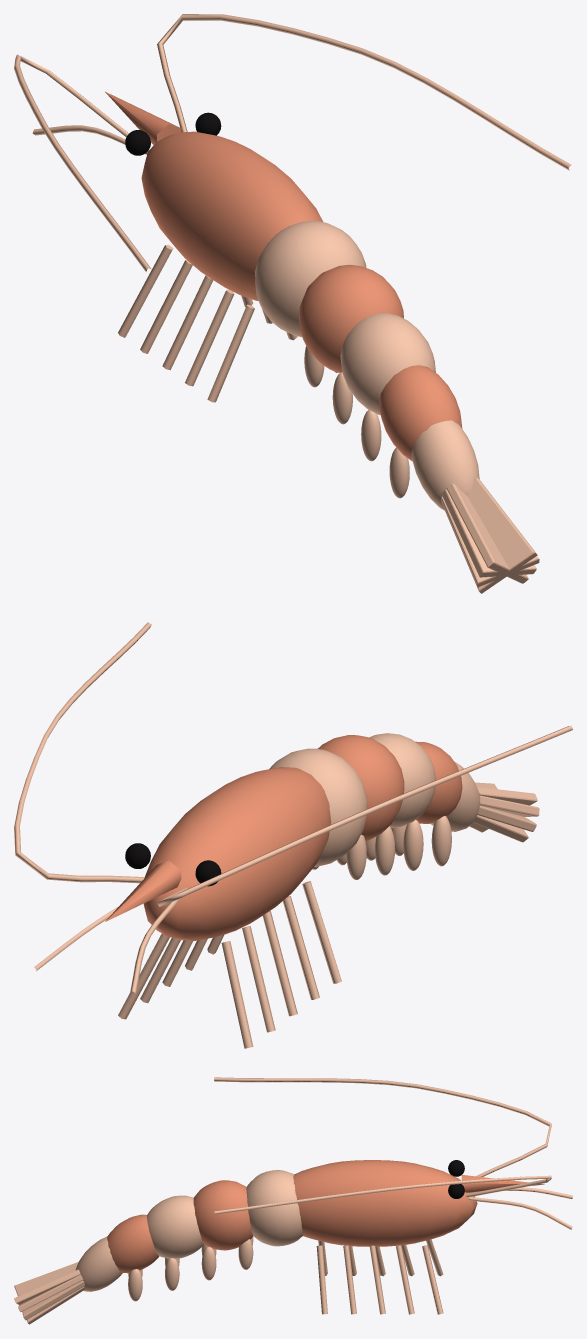
Rendered from shrimp.glb.
3 views of the same model, one above another, from view 1: azimuth 30°, elevation 25°; view 2: azimuth 150°, elevation 25°; view 3: azimuth 270°, elevation 25° (orthographic). The views are drawn at different scales.
Visible parts, largest first — view 1: CarapaceAssembly, AbdomenPlateAssembly, TailFanAssembly, WalkingLegAssembly, ShrimpEyeAssembly; view 2: CarapaceAssembly, AbdomenPlateAssembly, WalkingLegAssembly, TailFanAssembly, ShrimpEyeAssembly; view 3: CarapaceAssembly, AbdomenPlateAssembly, WalkingLegAssembly, TailFanAssembly, ShrimpEyeAssembly.
Boxes of the visible parts, x1,y1,x2,y2 form: CarapaceAssembly: (105, 91, 462, 461); AbdomenPlateAssembly: (14, 14, 571, 510); TailFanAssembly: (441, 477, 539, 593); WalkingLegAssembly: (118, 245, 337, 402); ShrimpEyeAssembly: (125, 112, 221, 155); CarapaceAssembly: (105, 735, 462, 940); AbdomenPlateAssembly: (14, 622, 572, 993); WalkingLegAssembly: (118, 881, 341, 1048); TailFanAssembly: (469, 782, 539, 842); ShrimpEyeAssembly: (125, 843, 221, 886); CarapaceAssembly: (107, 1160, 544, 1273); AbdomenPlateAssembly: (75, 1077, 572, 1301); WalkingLegAssembly: (316, 1239, 443, 1314); TailFanAssembly: (14, 1262, 84, 1324); ShrimpEyeAssembly: (448, 1160, 464, 1198).
Bounding box in the file's own units: 0.6073 × 0.3849 × 1.06.
